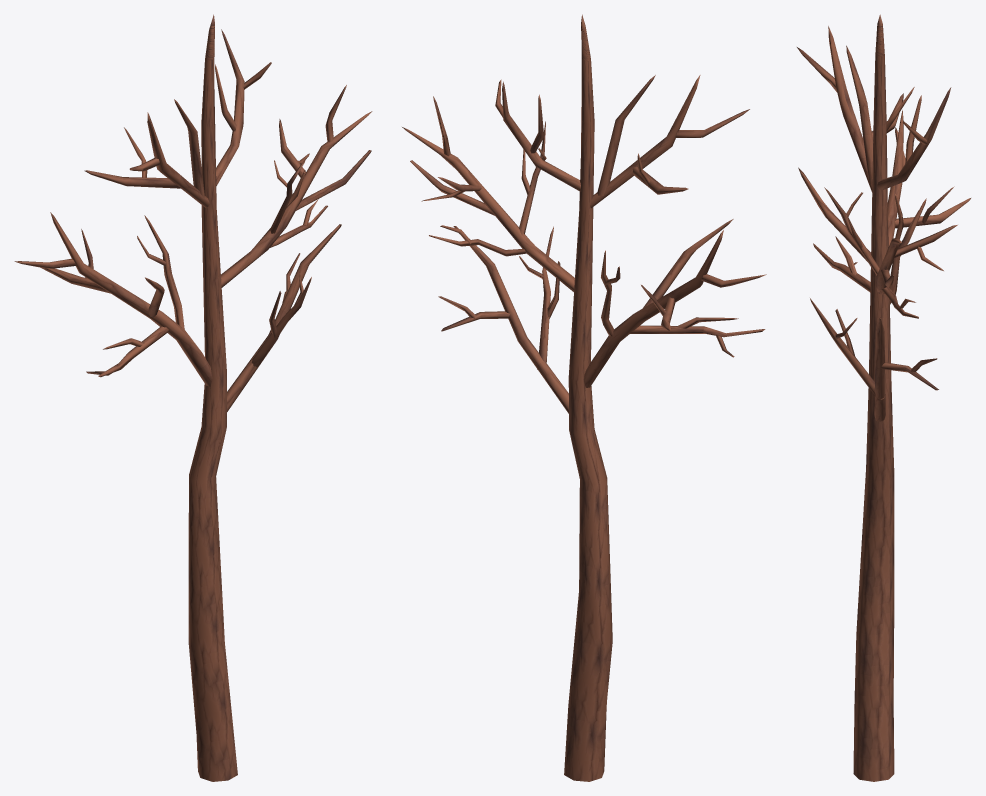
The model's file is DeadTree_1.glb.
3 renders of one model, left to right at view 1: azimuth 30°, elevation 25°; view 2: azimuth 150°, elevation 25°; view 3: azimuth 270°, elevation 25°, orthographic.
Bounding box in the file's own units: 3.09 × 6.2 × 1.3.
Materials: 1 (1 with a texture image).
